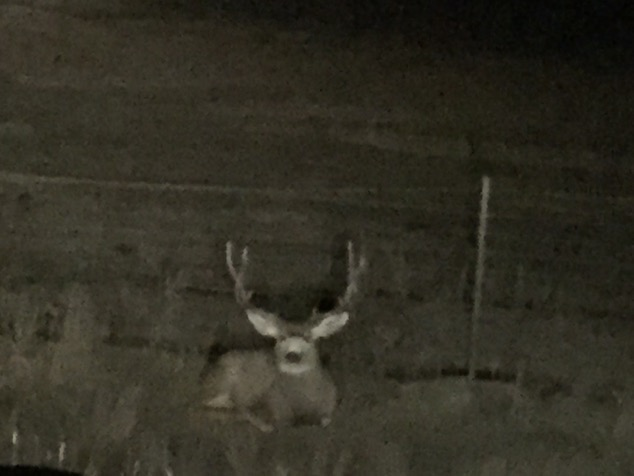deer: (221, 192, 361, 439)
